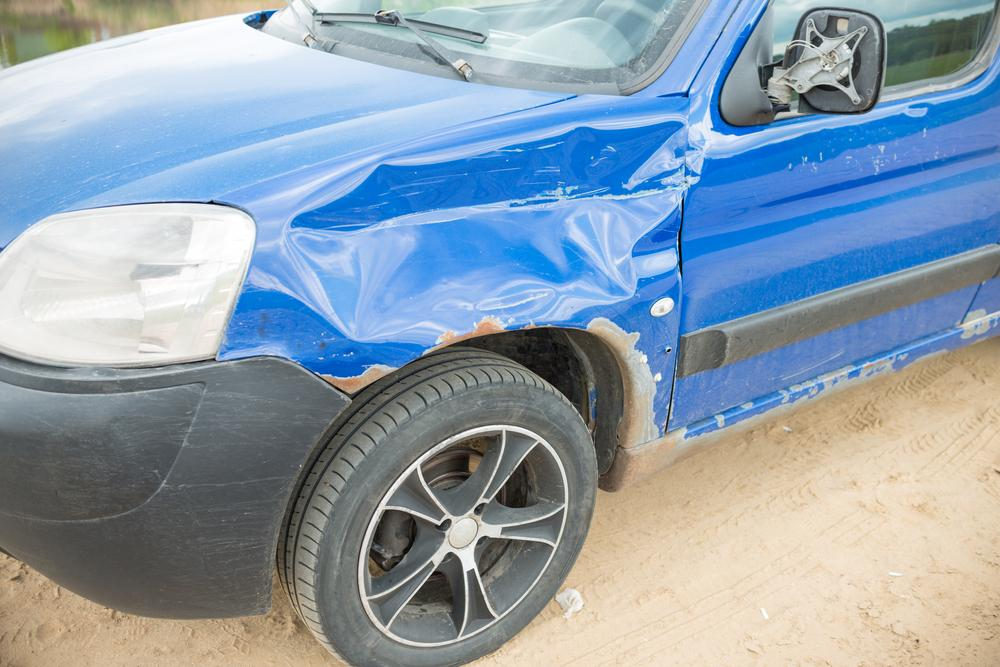dent: (285, 118, 704, 347)
